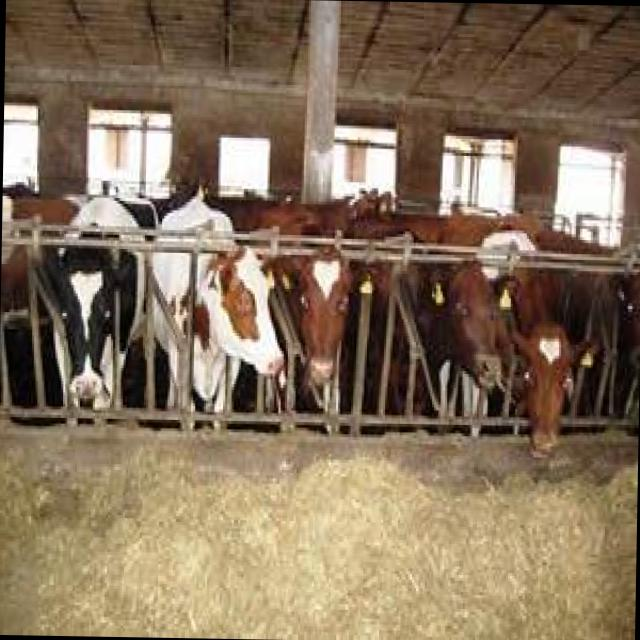animal: (151, 184, 287, 428), (49, 198, 153, 422), (398, 260, 510, 404), (284, 232, 374, 394), (498, 322, 592, 463)
